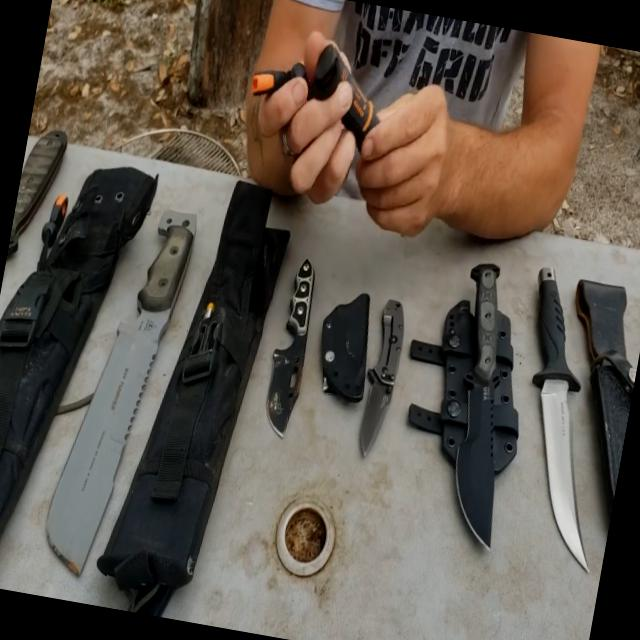knife: (27, 169, 215, 580), (478, 242, 639, 572), (418, 232, 537, 543), (250, 238, 328, 442), (344, 279, 418, 471)
